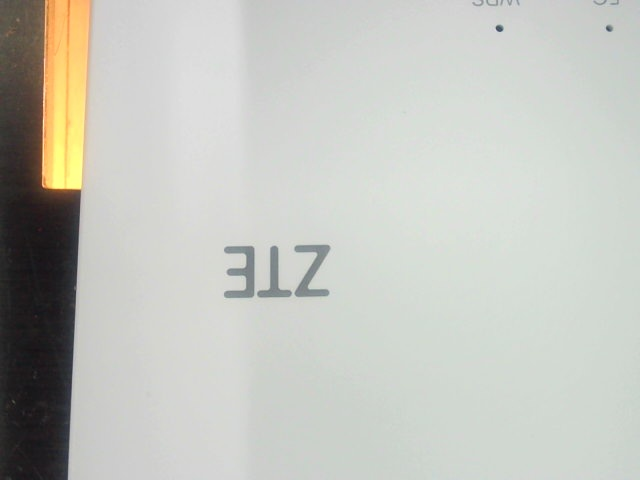AO_ZTESmall: (209, 236, 341, 310)
